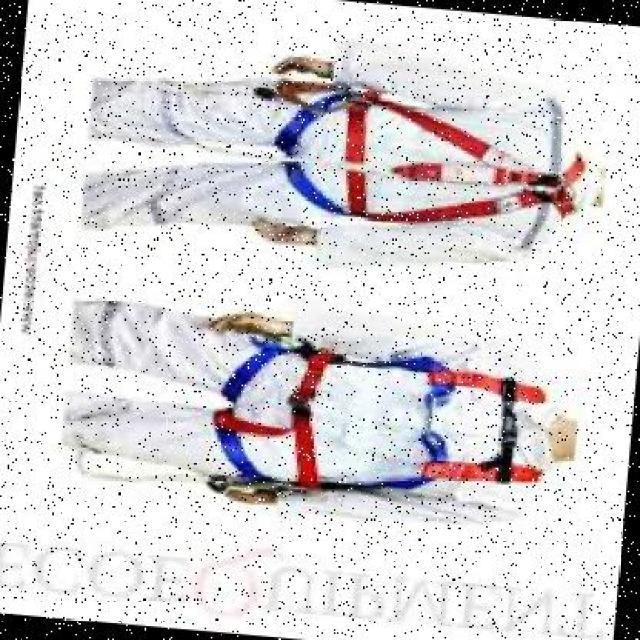Arnes_seguridad: (205, 329, 562, 522), (258, 70, 589, 243)
